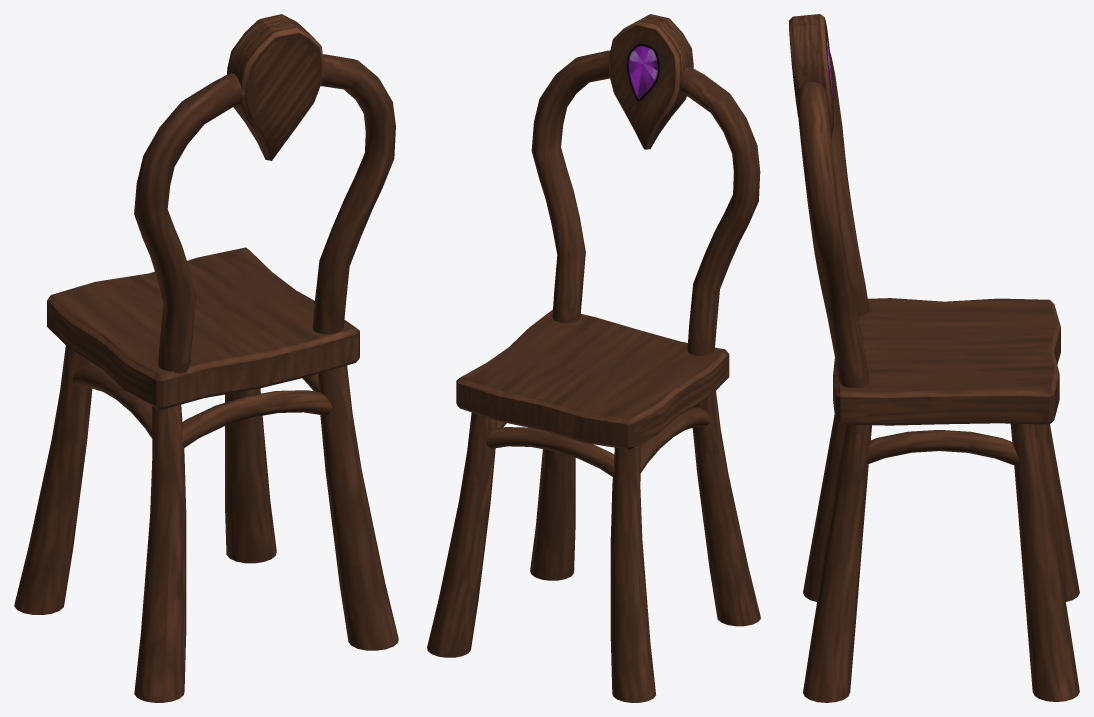
The model's file is chair.fbx.
3 renders of one model, left to right at view 1: azimuth 30°, elevation 25°; view 2: azimuth 150°, elevation 25°; view 3: azimuth 270°, elevation 25°, orthographic. The views are drawn at different scales.
Visible parts, largest first — view 1: chair; view 2: chair; view 3: chair.
Boxes of the visible parts, x1,y1,x2,y2 form: chair: (14,14,398,702); chair: (427,14,760,702); chair: (789,14,1079,702).
Bounding box in the file's own units: 35.61 × 85.91 × 36.27.
Materials: 1 (1 with a texture image).
